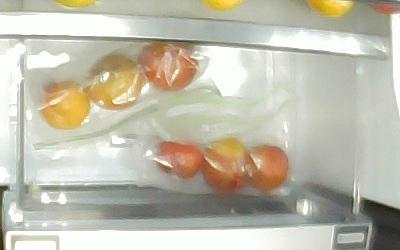prune_vinyl: (83, 50, 144, 109), (135, 40, 199, 91), (198, 136, 250, 194), (39, 77, 91, 130), (244, 142, 289, 190), (153, 138, 203, 180)
